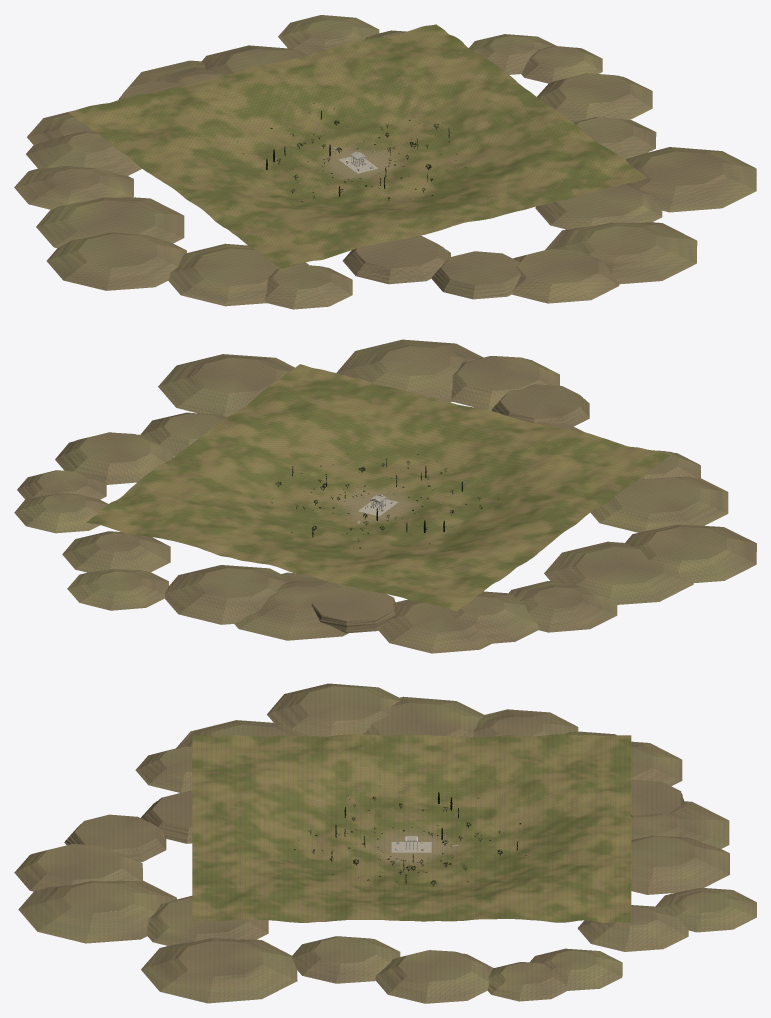
Rendered from aphrodisias-tetrapylon-baked.glb.
3 views of the same model, one above another, from view 1: azimuth 30°, elevation 25°; view 2: azimuth 150°, elevation 25°; view 3: azimuth 270°, elevation 25° (orthographic). The views are drawn at different scales.
Visible parts, largest first — view 1: aphrodisias-tetrapylon-terrain, aphrodisias-tetrapylon-ground, aphrodisias-tetrapylon-flora; view 2: aphrodisias-tetrapylon-terrain, aphrodisias-tetrapylon-ground, aphrodisias-tetrapylon-flora; view 3: aphrodisias-tetrapylon-terrain, aphrodisias-tetrapylon-ground, aphrodisias-tetrapylon-flora.
Part boxes in pixels (<box>): aphrodisias-tetrapylon-terrain: <box>68,24,648,267</box>; aphrodisias-tetrapylon-ground: <box>14,15,756,309</box>; aphrodisias-tetrapylon-flora: <box>237,102,482,207</box>; aphrodisias-tetrapylon-terrain: <box>86,364,669,611</box>; aphrodisias-tetrapylon-ground: <box>14,339,756,653</box>; aphrodisias-tetrapylon-flora: <box>260,451,503,550</box>; aphrodisias-tetrapylon-terrain: <box>192,734,631,922</box>; aphrodisias-tetrapylon-ground: <box>14,683,756,1003</box>; aphrodisias-tetrapylon-flora: <box>289,782,543,889</box>.
Bounding box in the file's own units: 789 × 31.31 × 773.
24 materials, 18 textured.
